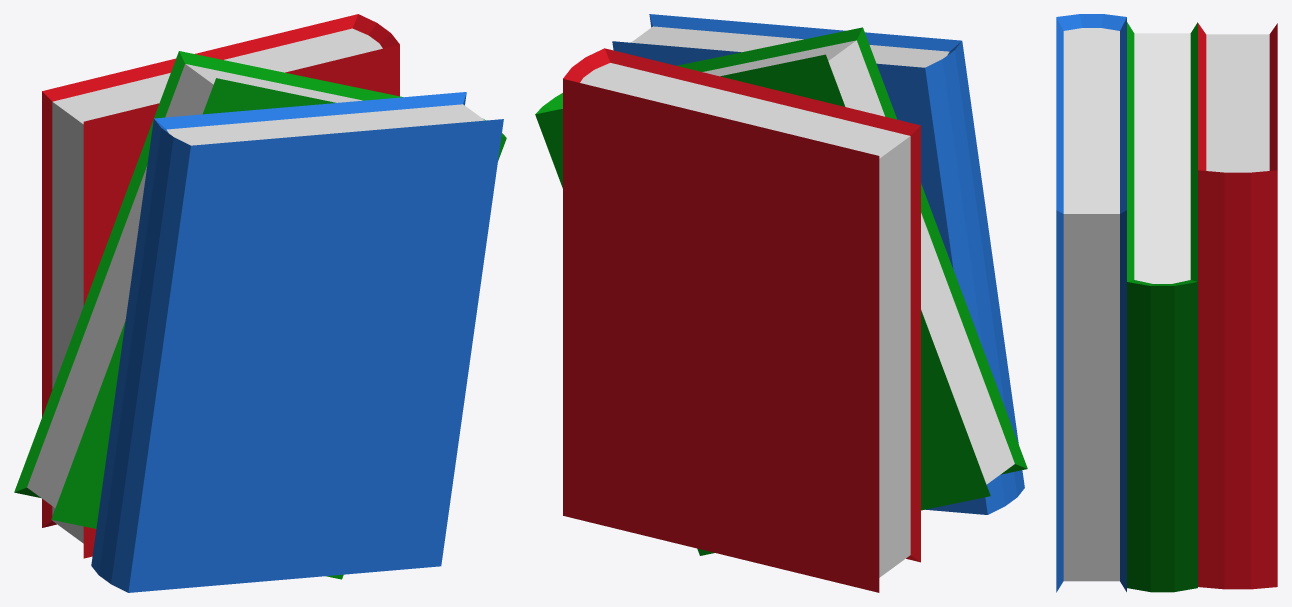
The model's file is book.gltf.
The picture shows the model from 3 angles, left to right: view 1: azimuth 30°, elevation 25°; view 2: azimuth 150°, elevation 25°; view 3: azimuth 270°, elevation 25°; orthographic projection. The views are drawn at different scales.
Parts seen in each view (by area): view 1: Cube.002, Cube, Cube.001; view 2: Cube, Cube.001, Cube.002; view 3: Cube, Cube.002, Cube.001.
Part boxes in pixels (bbox=[...]): Cube.002: bbox=[91, 92, 503, 592]; Cube: bbox=[42, 14, 399, 558]; Cube.001: bbox=[14, 51, 506, 579]; Cube: bbox=[563, 48, 920, 592]; Cube.001: bbox=[535, 27, 1027, 555]; Cube.002: bbox=[612, 14, 1024, 514]; Cube: bbox=[1198, 23, 1277, 589]; Cube.002: bbox=[1056, 14, 1126, 592]; Cube.001: bbox=[1127, 22, 1197, 592].
Size of the model in its own units: 1.57 by 1.74 by 0.6848.
